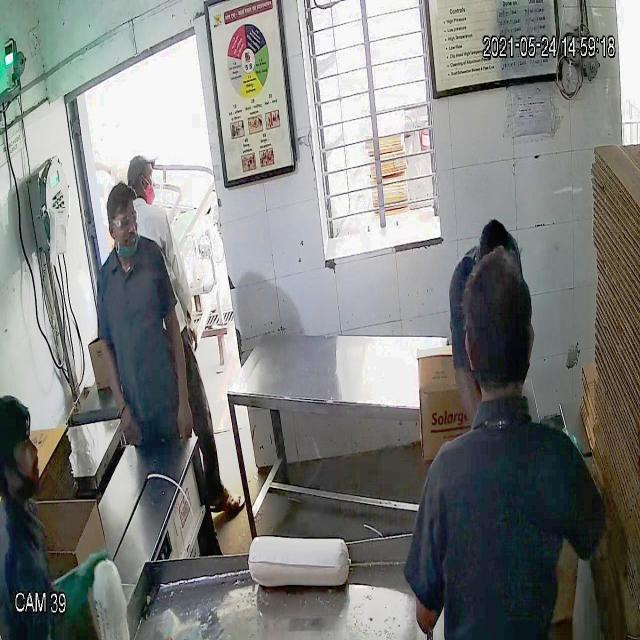glasses: (106, 209, 141, 236)
